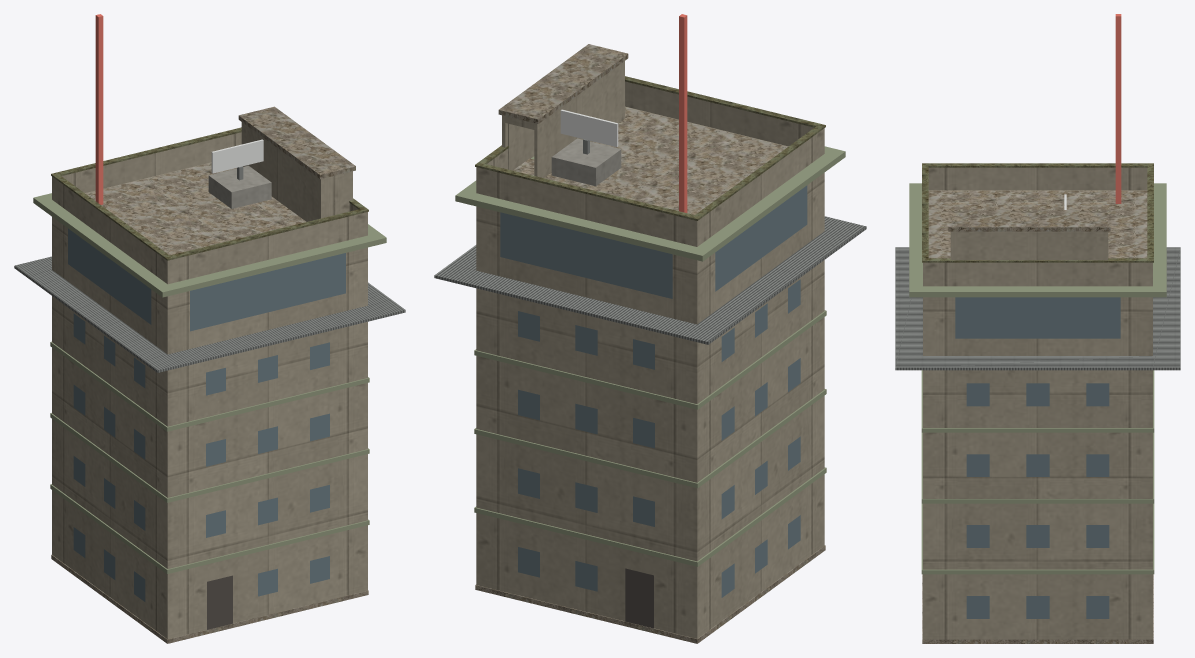
Rendered from mb-ops-tower.zfix-v21.lod1.glb.
The picture shows the model from 3 angles, left to right: view 1: azimuth 30°, elevation 25°; view 2: azimuth 150°, elevation 25°; view 3: azimuth 270°, elevation 25°; orthographic projection. The views are drawn at different scales.
Visible parts, largest first — view 1: mb-ops-tower; view 2: mb-ops-tower; view 3: mb-ops-tower.
Part boxes in pixels (box(x1,y1,x2,y2)): mb-ops-tower: box(14, 14, 405, 643); mb-ops-tower: box(434, 14, 866, 643); mb-ops-tower: box(895, 14, 1180, 643).
Size of the model in its own units: 12.4 by 26.22 by 12.4.
4 materials, 3 textured.
